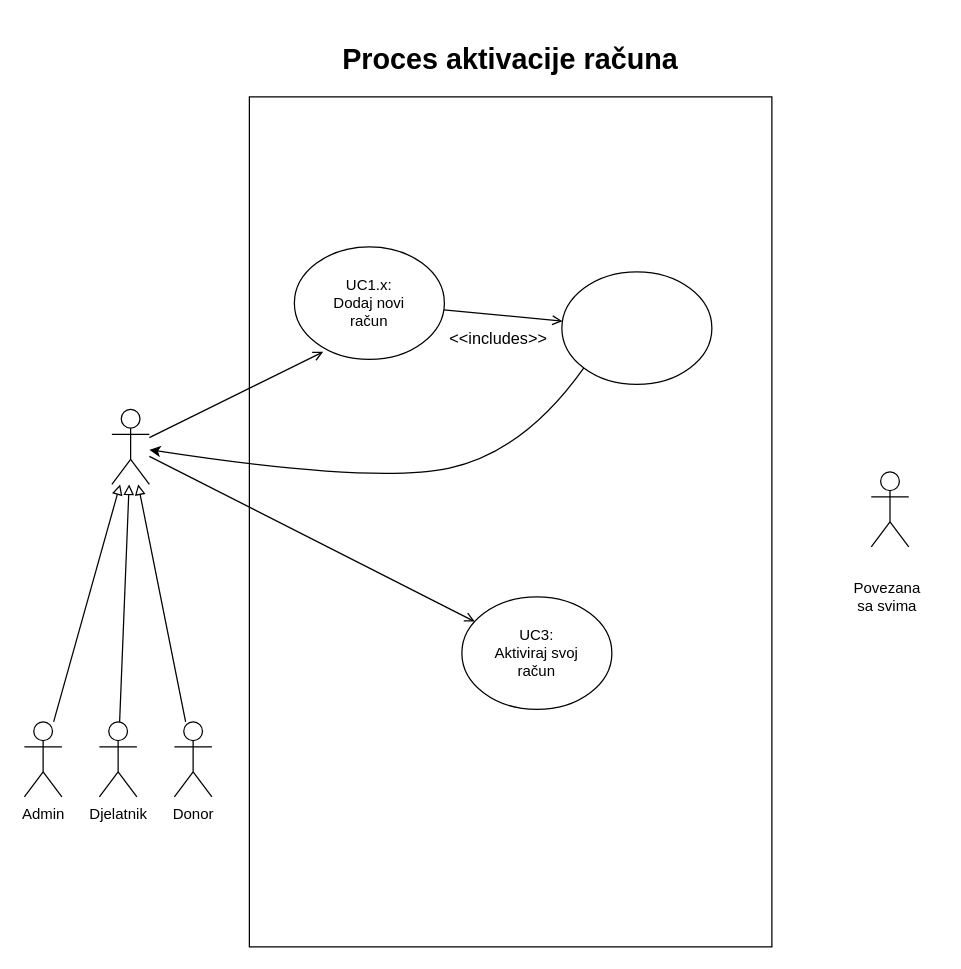
This 961x969 diagram has some shape labels left out. Here are the shapes that lost their labels. From the top down, the centre of each, then its label:
point (636, 327): UC2: Pošalji e-mail za aktivaciju
point (130, 446): Korisnik sustava
point (889, 509): Baza podataka
